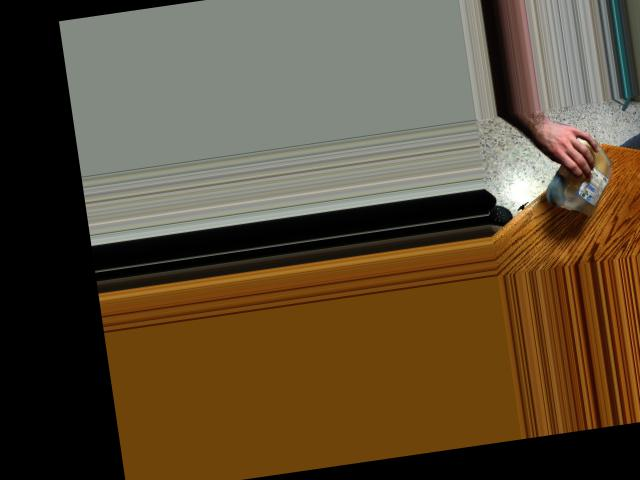cheese: (547, 129, 624, 221)
